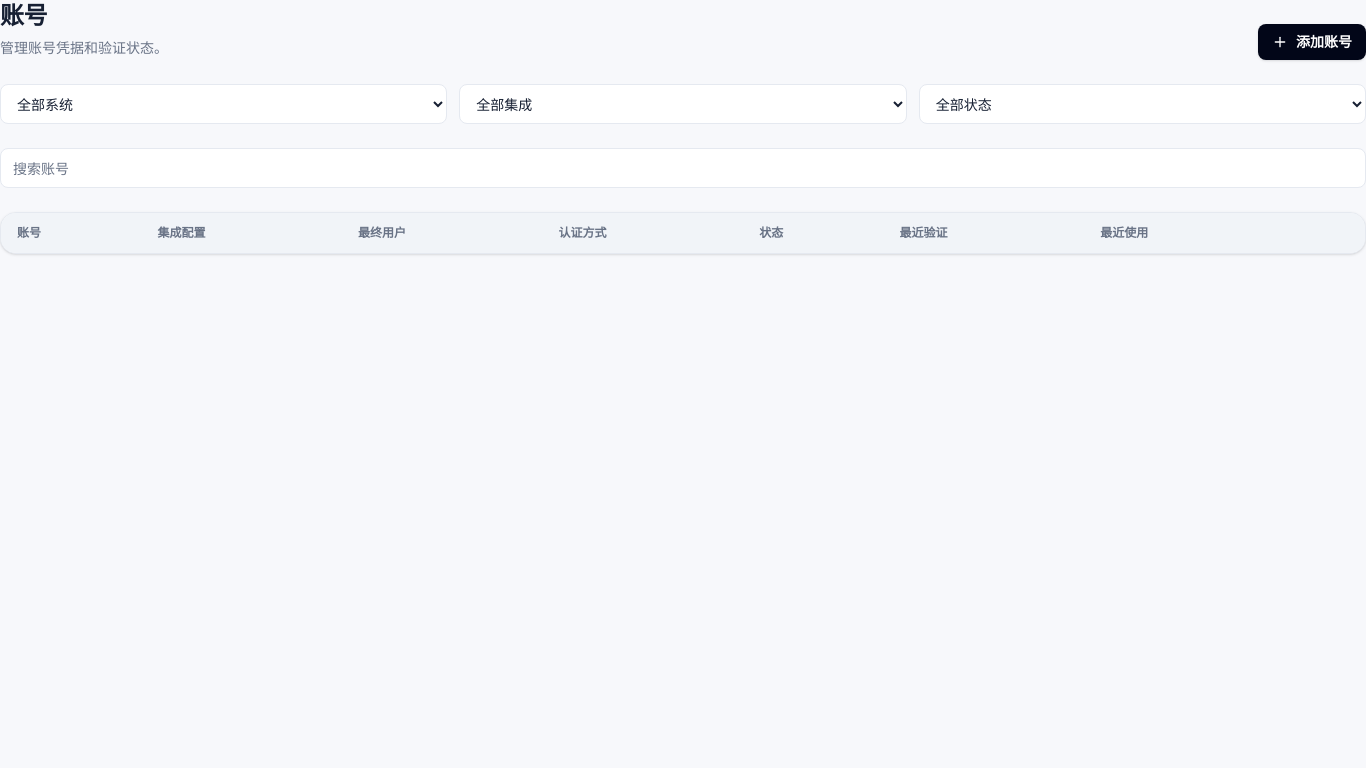
Scenario: asks only once before discarding genuinely unsaved account inputs
Click the button "添加账号". click: (1312, 42)
box: [1258, 24, 1365, 60]
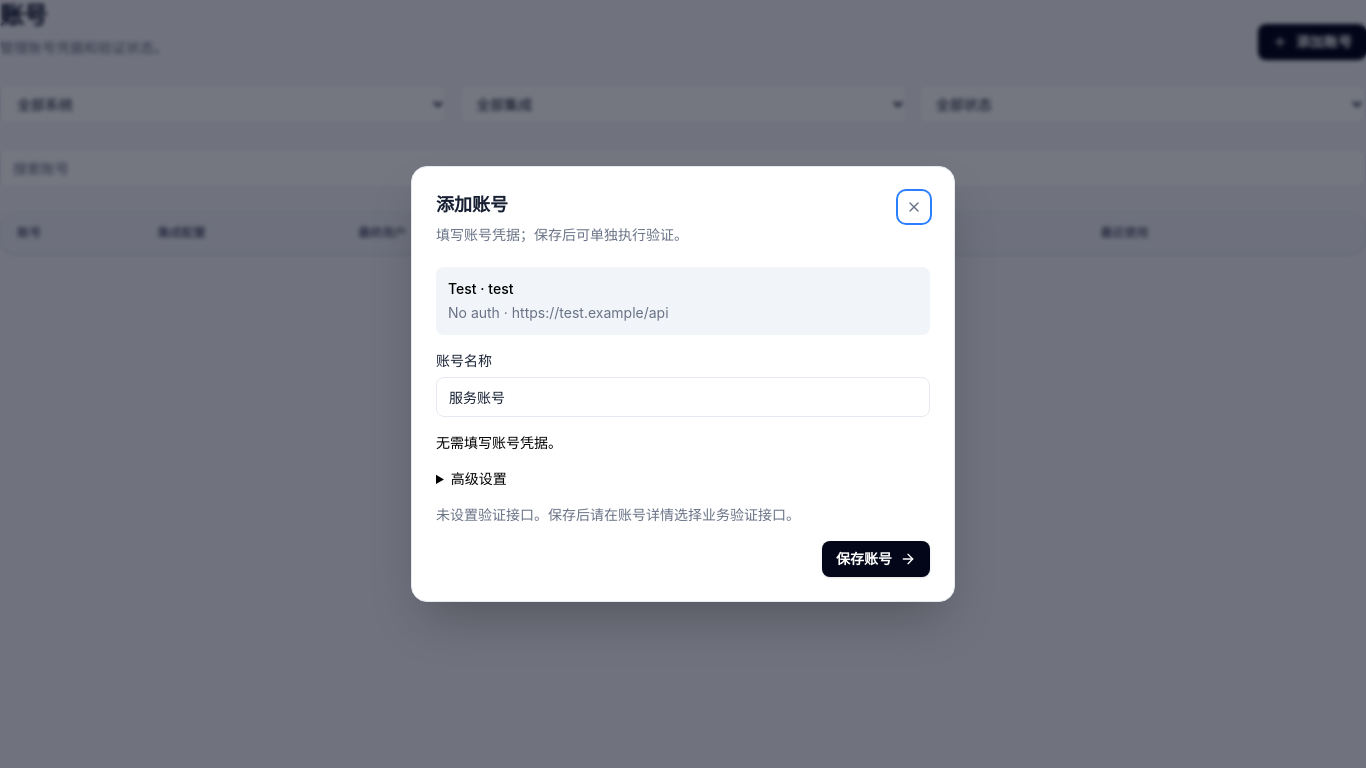
Replace the text in the field labelled "账号名称" with "Unsaved account". click: (683, 397)
box: [436, 377, 930, 417]
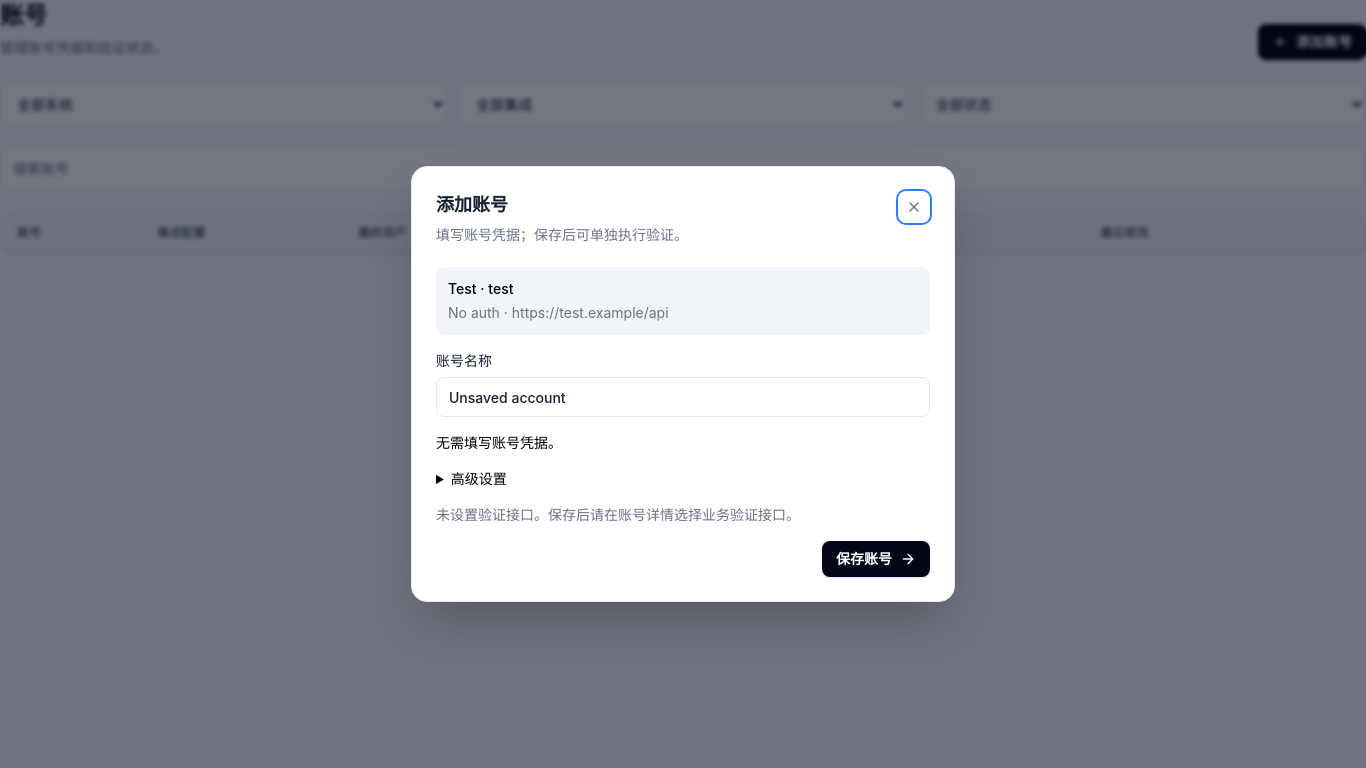
Click the button named "关闭". click: (914, 207)
box: [898, 191, 930, 223]
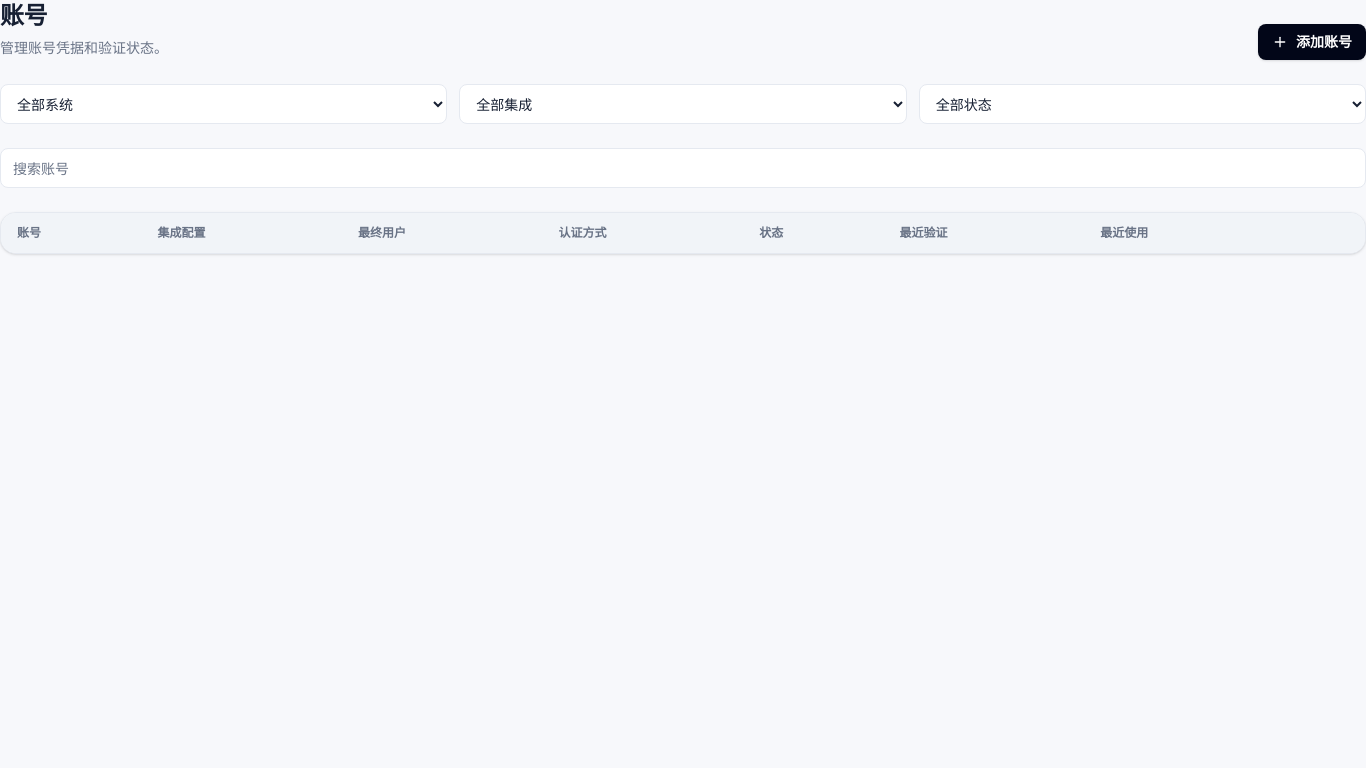
Expected: the dialog is gone
